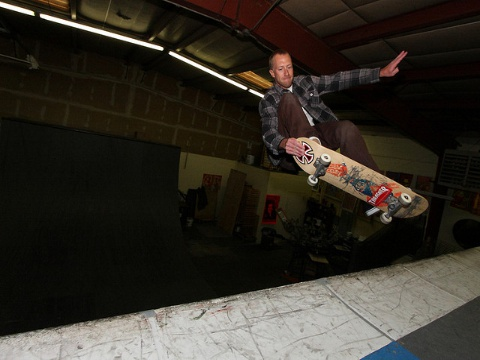hand: (380, 48, 407, 78), (282, 137, 305, 157)
